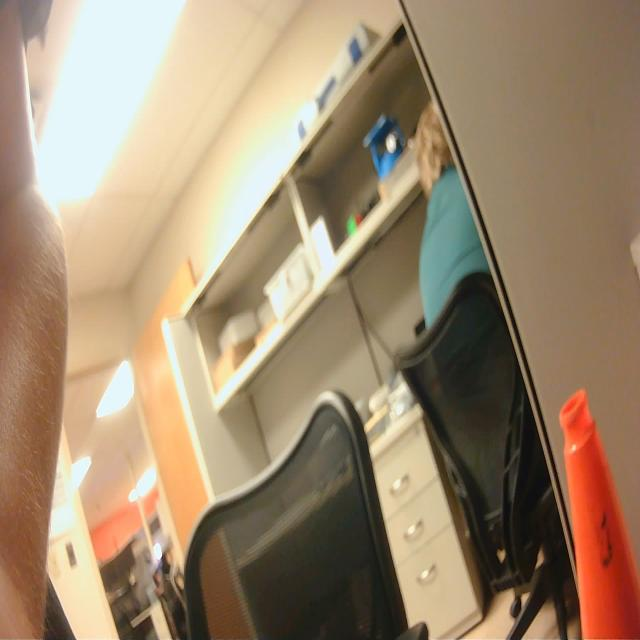traffic cone: (557, 381, 640, 640)
